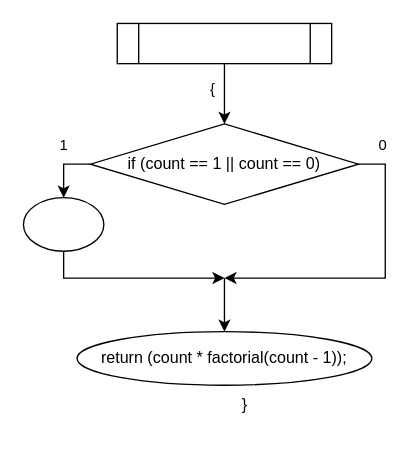
This 419x449 diagram has some shape labels left out. The shapes that lost their labels are listed below. From the top down, each one's centre as x and y in pixels, then its label:
At point 224,43: "int factorial(int count)".
At point 63,223: "return 1;".
